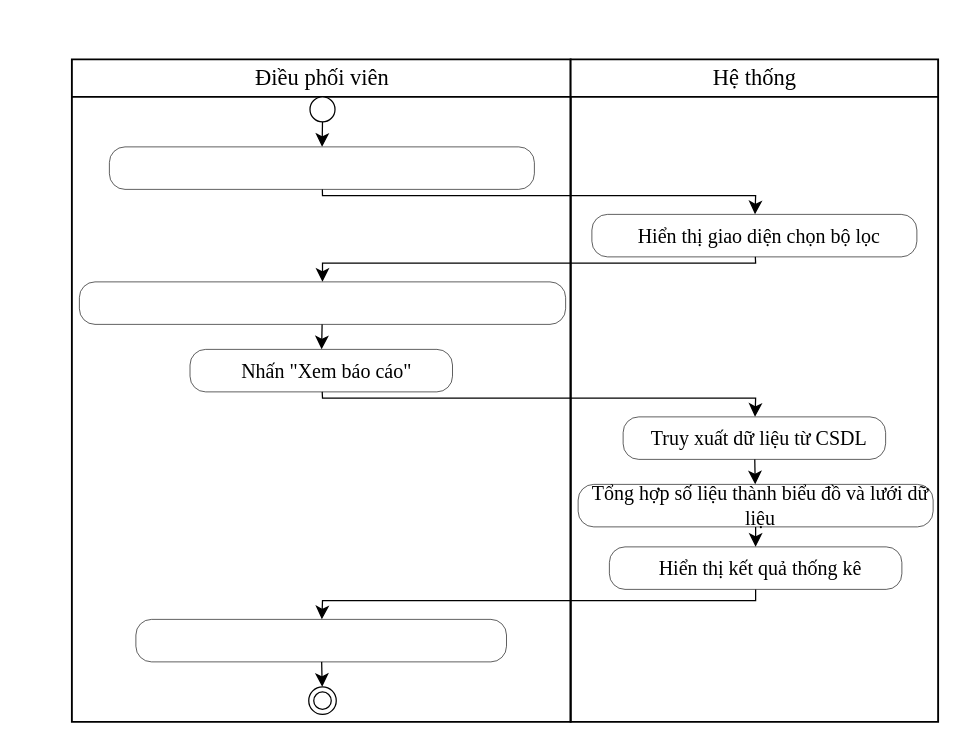
The diagram is 961 pixels wide and 745 high, and some of its shapes have lost their labels. The shapes that lost their labels are listed below. From the top down, each one's centre as x and y in pixels, then its label:
point 321,167: Chọn chức năng "Lập báo cáo thống kê sự cố"
point 321,302: Chọn tiêu chí (khoảng thời gian, khu vực, trạng thái, loại sự cố)
point 320,640: Xem báo cáo trực quan và tải về máy
